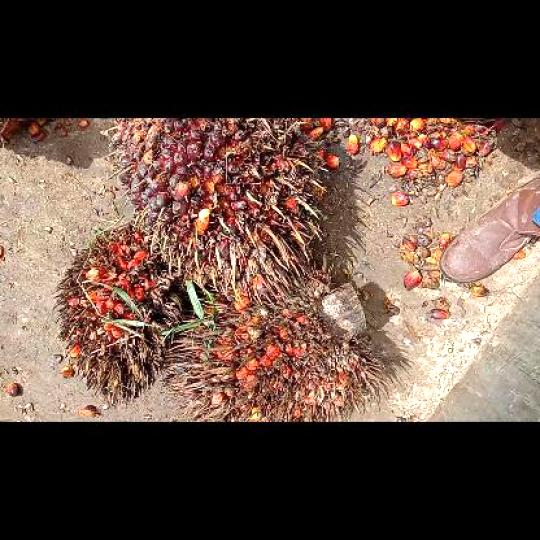masak: (109, 118, 330, 310)
terlalu masak: (158, 281, 385, 420), (51, 222, 183, 409)
